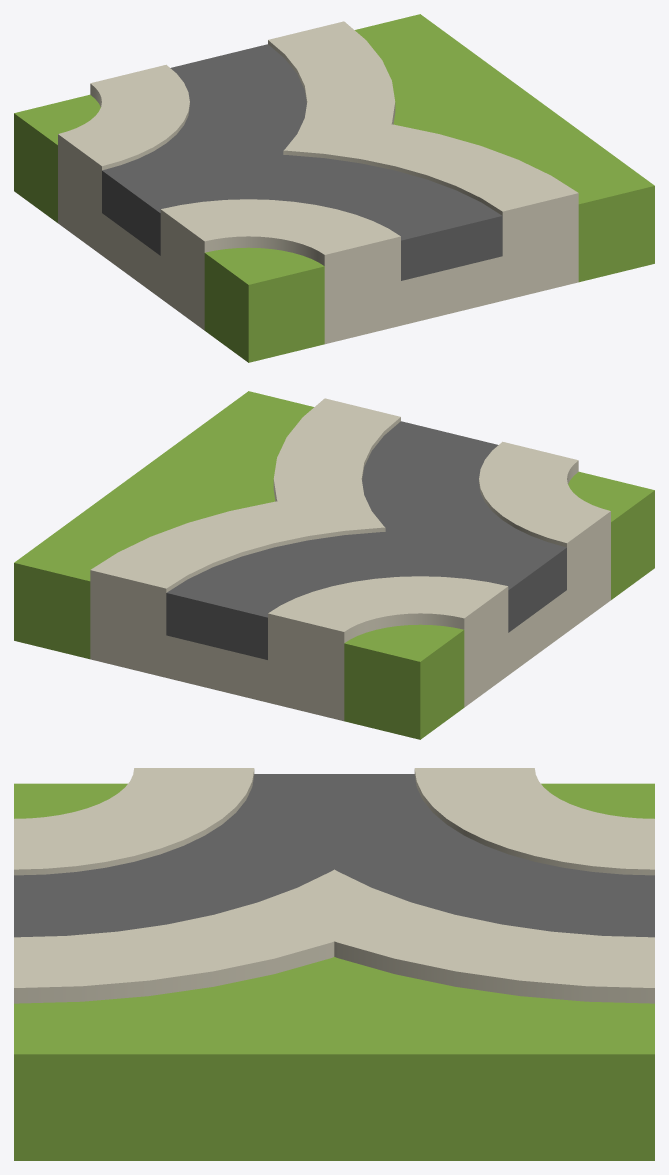
The model's file is tile104.fbx.
3 views of the same model, one above another, from view 1: azimuth 30°, elevation 25°; view 2: azimuth 150°, elevation 25°; view 3: azimuth 270°, elevation 25° (orthographic). The views are drawn at different scales.
Parts seen in each view (by area): view 1: tile104; view 2: tile104; view 3: tile104.
Boxes of the visible parts, left/top/right/bottom form: tile104: left=14, top=14, right=654, bottom=362; tile104: left=14, top=391, right=654, bottom=739; tile104: left=14, top=768, right=654, bottom=1160.
Bounding box in the file's own units: 10 × 2.1 × 10.
